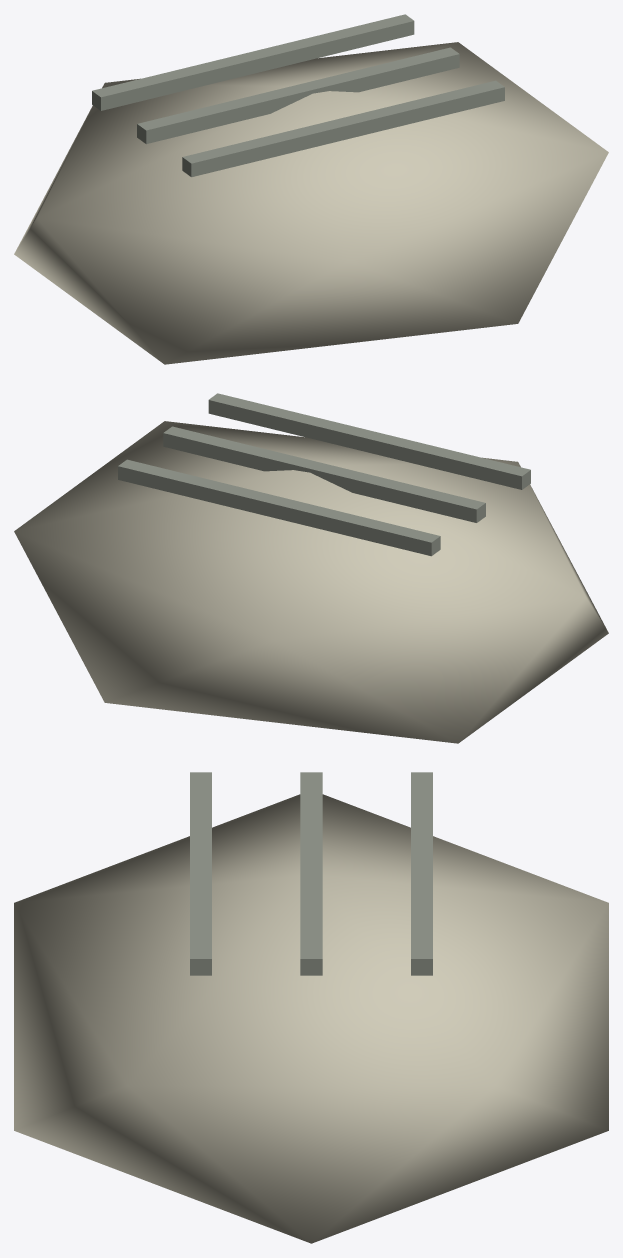
The model's file is spread-portable-memorymarble.fbx.
3 views of the same model, one above another, from view 1: azimuth 30°, elevation 25°; view 2: azimuth 150°, elevation 25°; view 3: azimuth 270°, elevation 25° (orthographic). The views are drawn at different scales.
Parts seen in each view (by area): view 1: spread-portable-memorymarble__Geometry; view 2: spread-portable-memorymarble__Geometry; view 3: spread-portable-memorymarble__Geometry.
Part boxes in pixels (x1,y1,x2,y2): spread-portable-memorymarble__Geometry: (14,14,608,364); spread-portable-memorymarble__Geometry: (14,393,608,743); spread-portable-memorymarble__Geometry: (14,772,608,1243).
Bounding box in the file's own units: 0.4204 × 0.171 × 0.3232.
